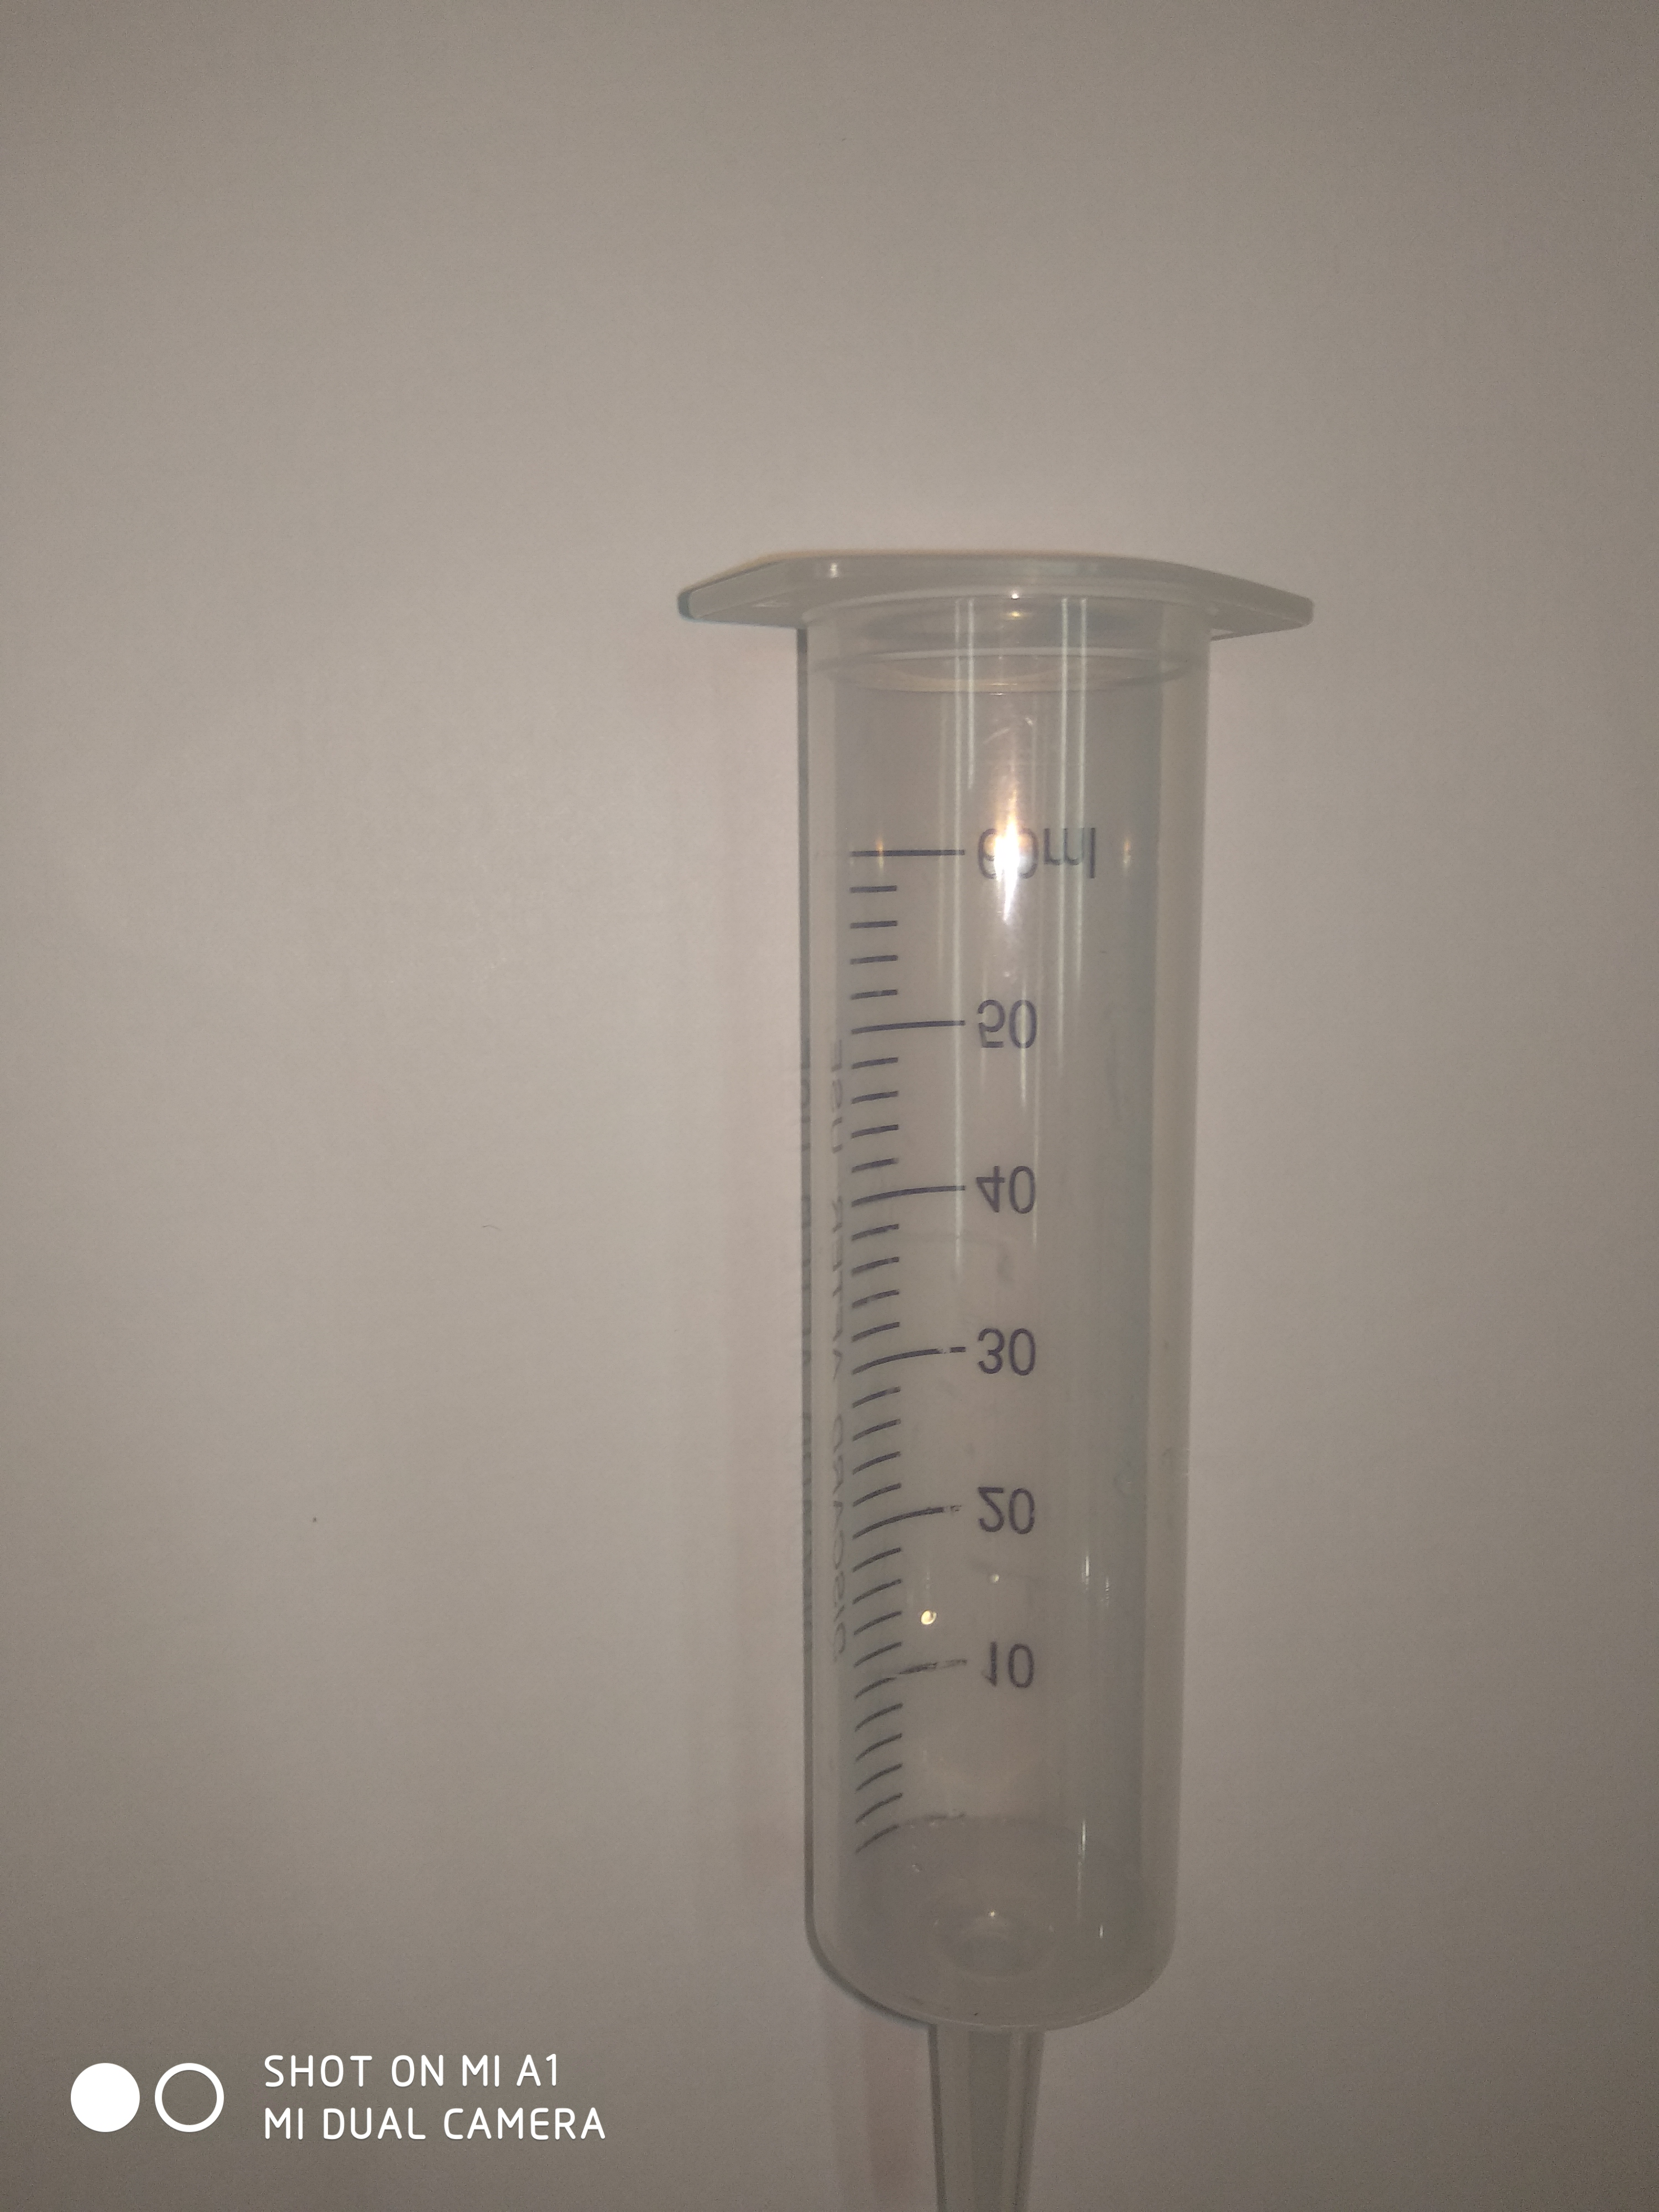syringe: (678, 542, 1319, 2210)
